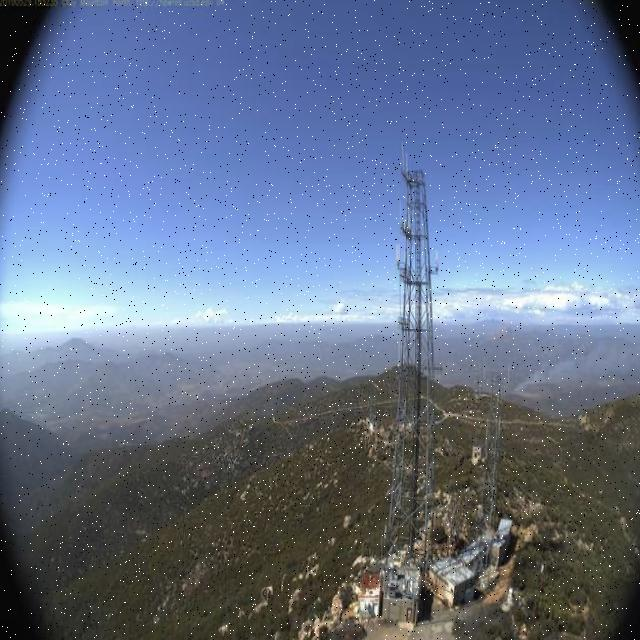smoke: (509, 337, 640, 397)
